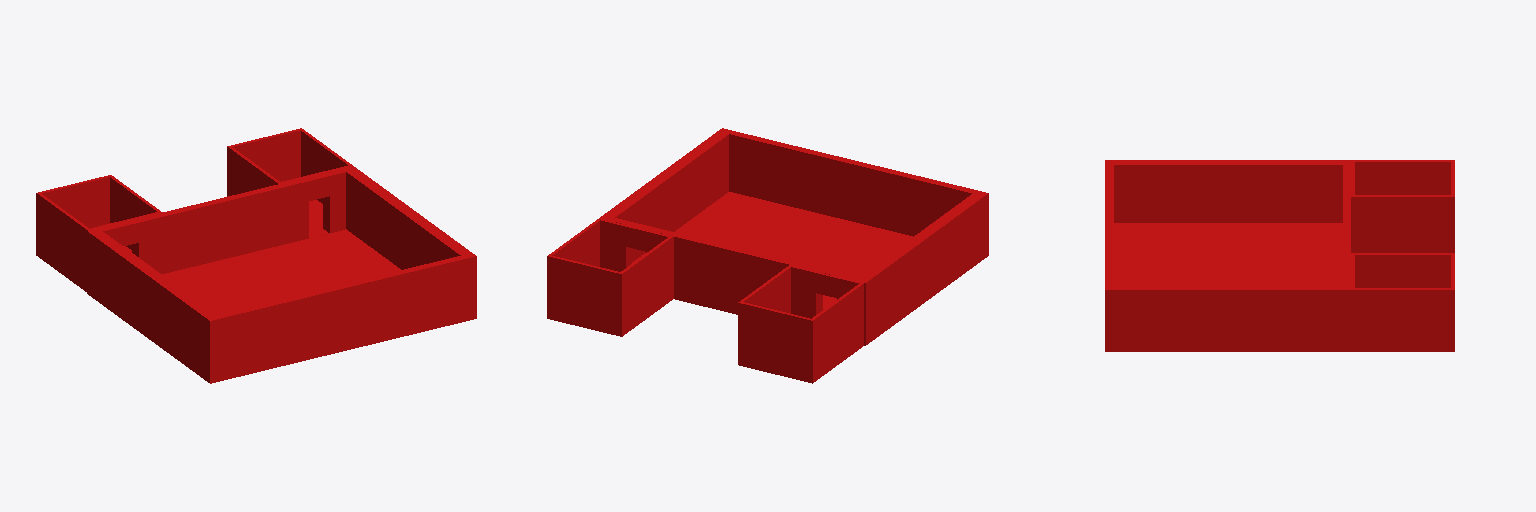
File: pb-MergedObject-1179058.obj
The picture shows the model from 3 angles: view 1: azimuth 30°, elevation 25°; view 2: azimuth 150°, elevation 25°; view 3: azimuth 270°, elevation 25°; orthographic projection.
Visible parts, largest first — view 1: pb-MergedObject-[number redacted]; view 2: pb-MergedObject-[number redacted]; view 3: pb-MergedObject-[number redacted].
Boxes of the visible parts, x1,y1,x2,y2 form: pb-MergedObject-[number redacted]: [36, 128, 476, 383]; pb-MergedObject-[number redacted]: [547, 128, 988, 383]; pb-MergedObject-[number redacted]: [1105, 160, 1454, 351].
Size of the model in its own units: 24 by 5.4 by 27.26.